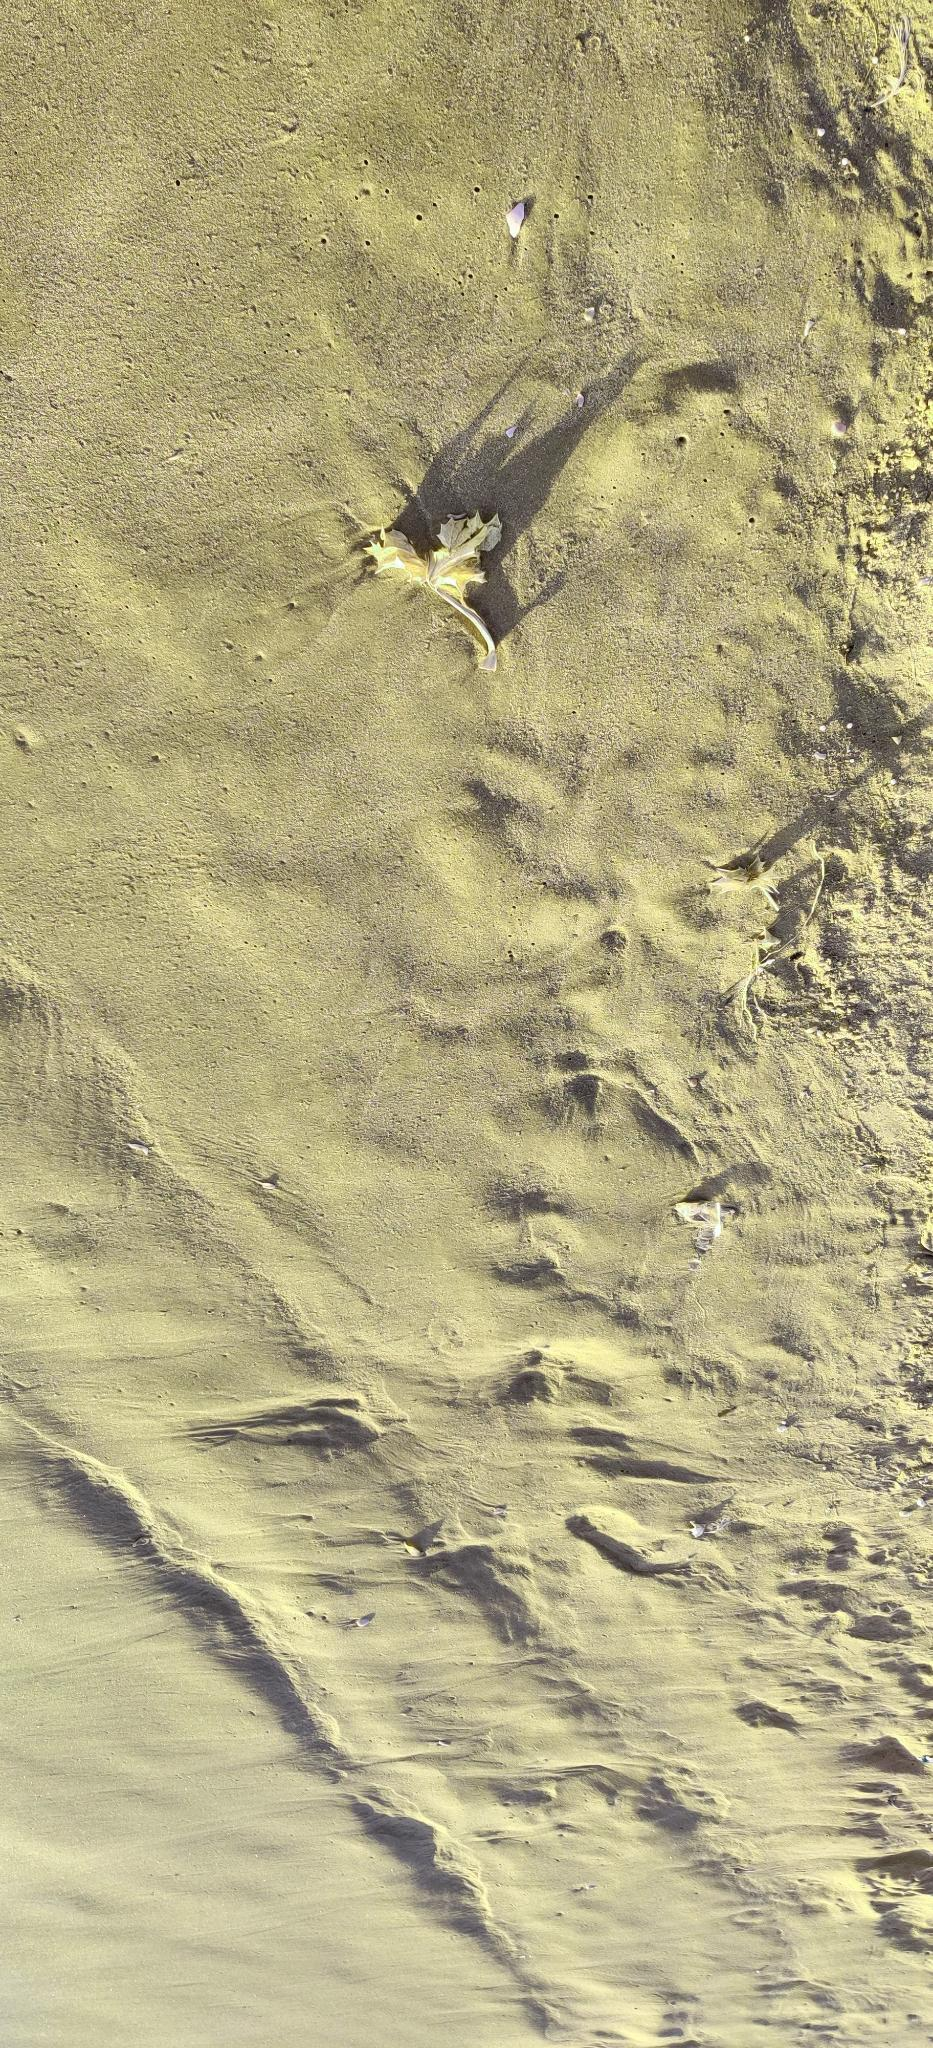Plastic: (362, 496, 550, 675)
